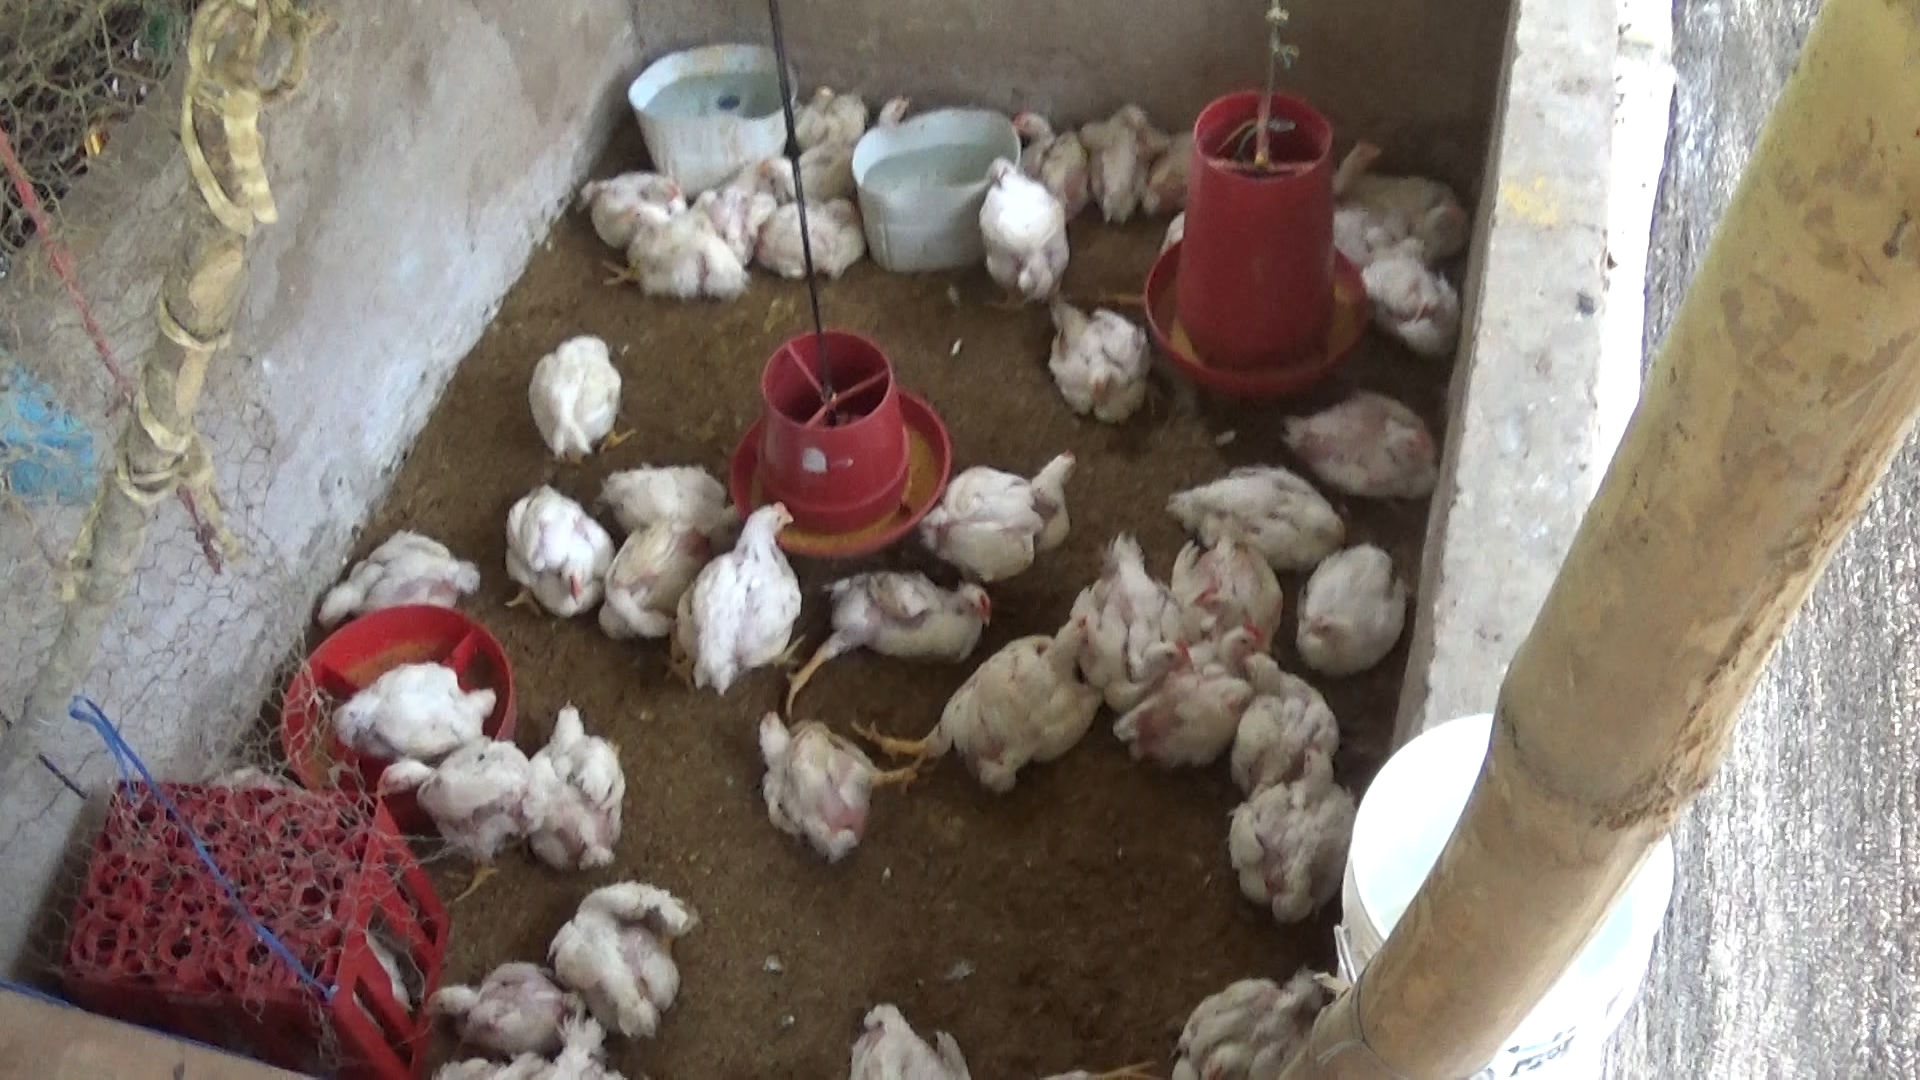Pollos: (877, 622, 1098, 782), (766, 568, 1001, 713), (655, 495, 825, 694), (741, 698, 915, 868), (546, 876, 711, 1036), (1225, 732, 1345, 927), (915, 444, 1087, 580), (1113, 621, 1270, 766), (1160, 452, 1344, 575), (315, 655, 501, 771), (378, 738, 535, 876), (1273, 378, 1441, 500), (520, 702, 634, 876), (1069, 531, 1180, 709), (1149, 963, 1317, 1077), (295, 522, 458, 628), (1283, 545, 1406, 680), (1044, 290, 1163, 430), (1229, 644, 1340, 793), (495, 468, 600, 618), (514, 323, 622, 465), (1174, 516, 1276, 661), (977, 156, 1068, 313), (597, 438, 727, 545), (605, 208, 742, 306), (422, 963, 580, 1043), (597, 541, 698, 658), (1360, 237, 1457, 353), (1081, 105, 1174, 220), (1337, 179, 1474, 253), (568, 160, 686, 241), (1021, 99, 1095, 218), (769, 202, 866, 284), (748, 136, 862, 200), (807, 78, 926, 135), (705, 157, 774, 252), (1328, 131, 1379, 185)
